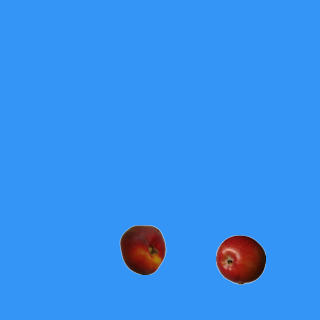Apple Braeburn: (215, 234, 265, 284)
Nectarine Flat: (117, 224, 167, 274)
